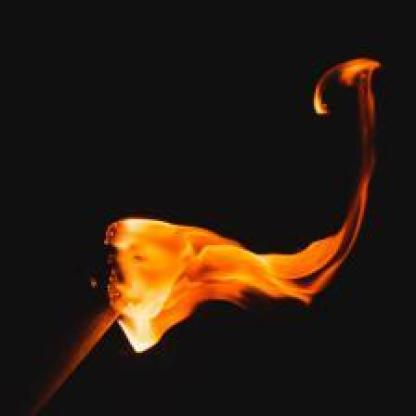Fire: (101, 219, 341, 344)
